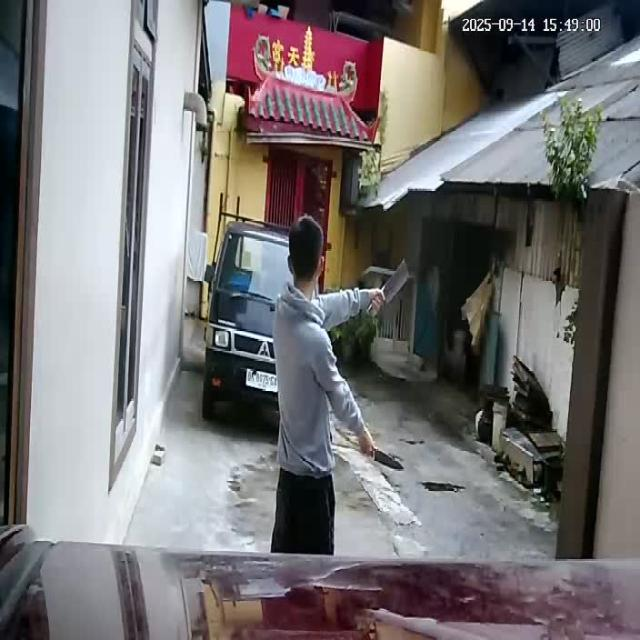senjata_tajam: (382, 257, 412, 304), (373, 448, 405, 471)
